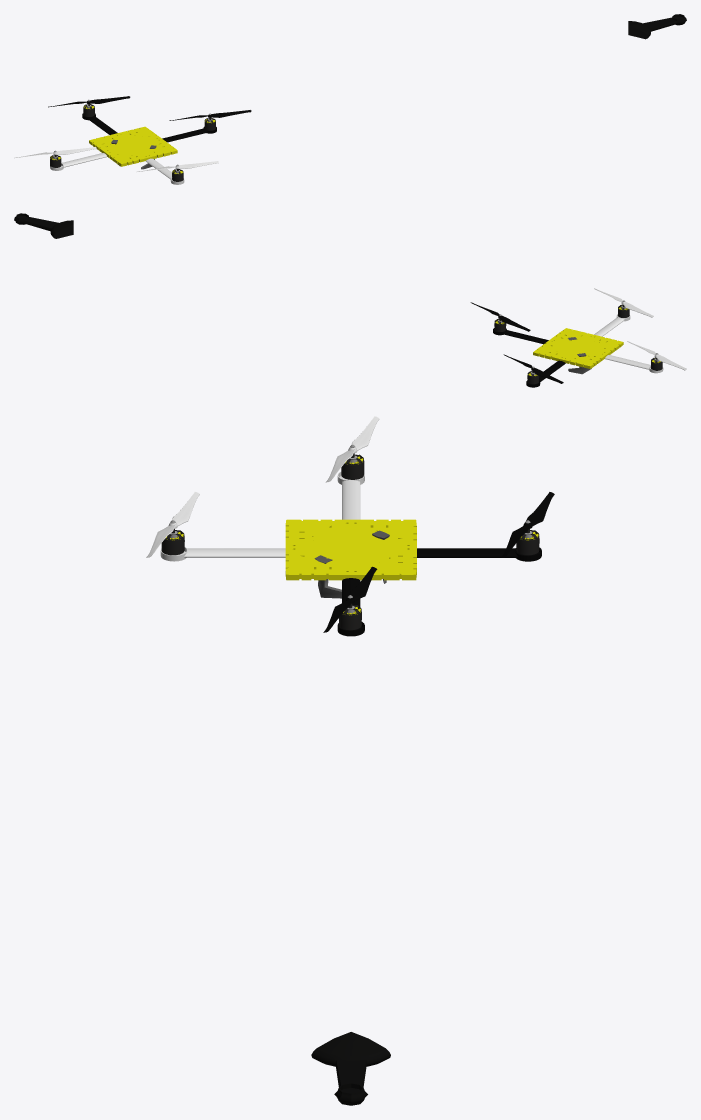
Rendered from uav9.fbx.
3 renders of one model, top to bottom at view 1: azimuth 30°, elevation 25°; view 2: azimuth 150°, elevation 25°; view 3: azimuth 270°, elevation 25°, orthographic. The views are drawn at different scales.
Visible parts, largest first — view 1: pCube56, pCylinder9, pCylinder115, pCylinder116; view 2: pCube56, pCylinder9, pCylinder115, pCylinder116; view 3: pCube56, pCylinder9, pCylinder114, pCylinder117.
Boxes of the visible parts, left/top/right/bottom form: pCube56: left=89, top=126, right=177, bottom=166; pCylinder9: left=628, top=14, right=686, bottom=39; pCylinder115: left=50, top=153, right=107, bottom=170; pCylinder116: left=162, top=126, right=216, bottom=142; pCube56: left=533, top=328, right=623, bottom=368; pCylinder9: left=14, top=213, right=73, bottom=238; pCylinder115: left=605, top=355, right=663, bottom=373; pCylinder116: left=493, top=328, right=548, bottom=344; pCube56: left=285, top=519, right=416, bottom=580; pCylinder9: left=311, top=1032, right=390, bottom=1105; pCylinder114: left=160, top=547, right=285, bottom=561; pCylinder117: left=417, top=547, right=541, bottom=561.
Bounding box in the file's own units: 145 × 6.64 × 38.53.
